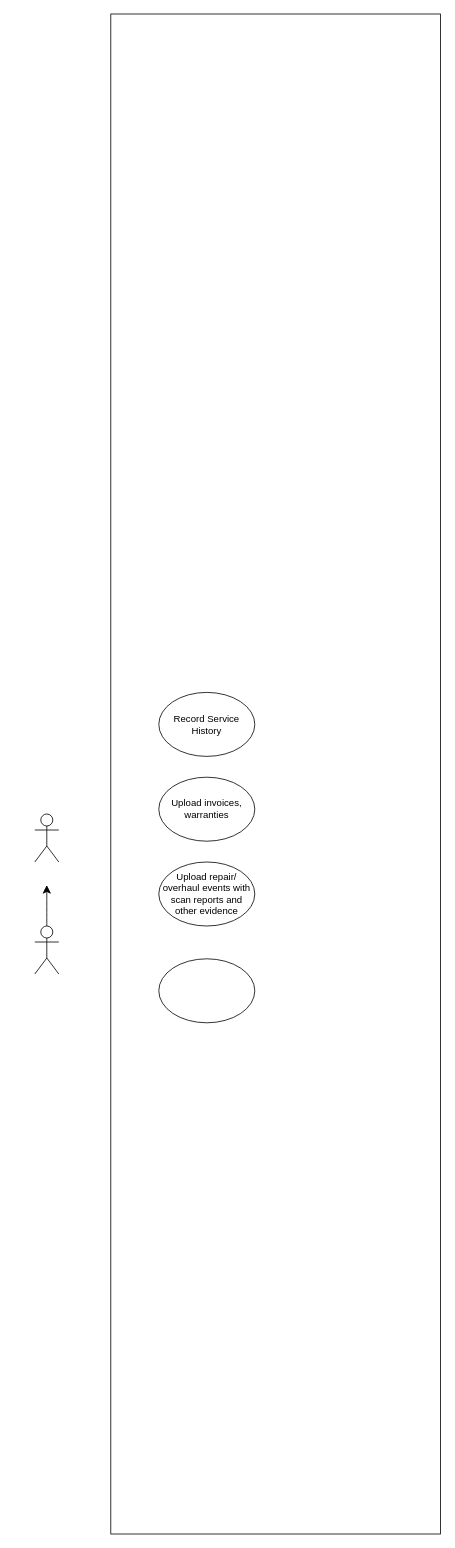
Image size: 455x1548. Some labels were removed from this diagram. The shapes that lost their labels are listed below. From the top down, each one's centre as x and y in pixels, then its label:
At [46,837]: "Chief Mechanic".
At [46,949]: "Job Mechanic".
